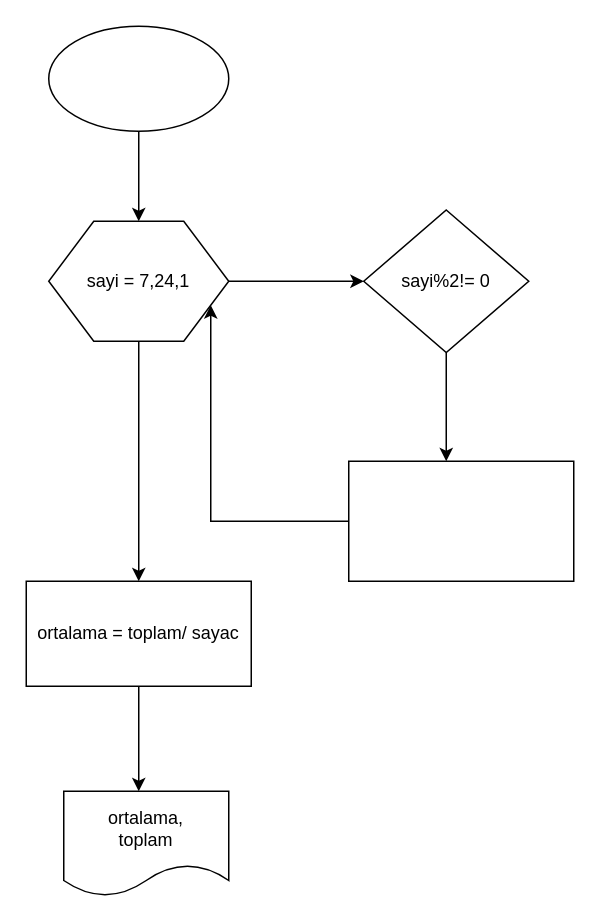
The diagram is 600 pixels wide and 923 high, and some of its shapes have lost their labels. Here are the shapes that lost their labels. From the top down, the centre of each, then its label:
At pixel 138 78: "başla".
At pixel 460 520: "toplam =+sayi sayac ++".
